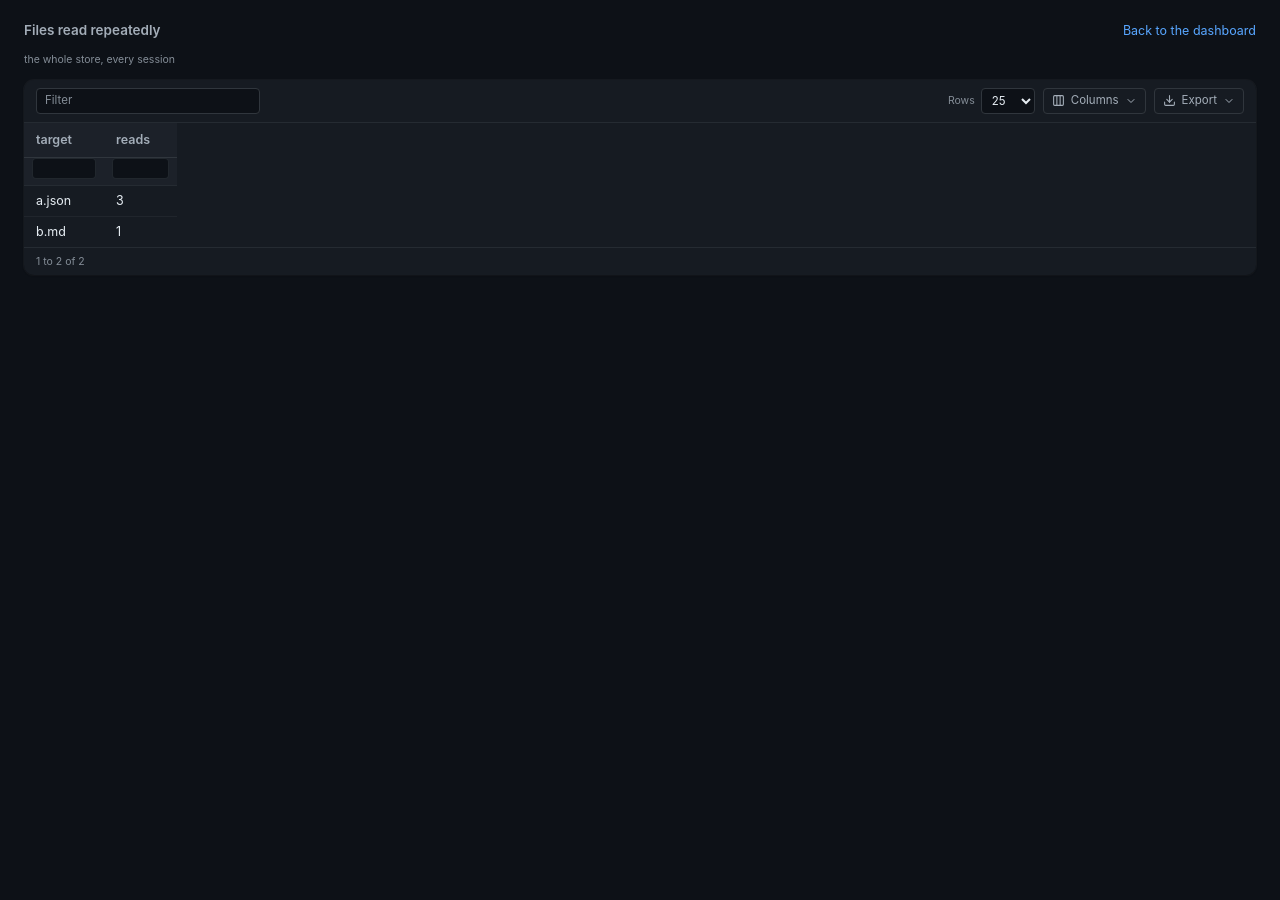
Scenario: selecting a session from the drawer, which is the only way to do it here › offers no such button where the row names no session (gate can fail)
The width and height of the screenshot is (1280, 900).
Click the row "a.json 3" at (100,201), box [24, 185, 177, 216]
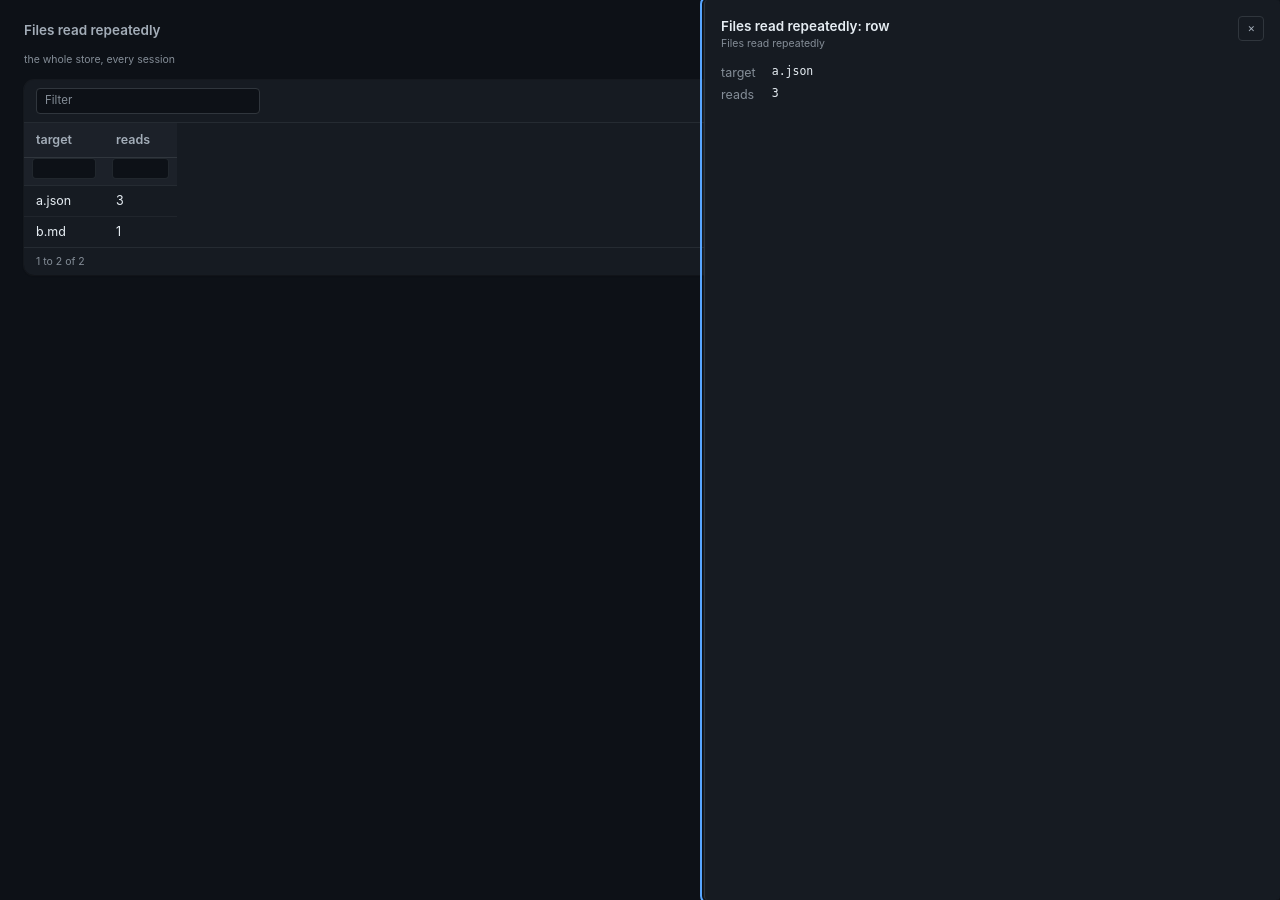
expect the dialog is shown: met, box [704, 0, 1279, 899]
